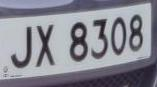0: (109, 11, 128, 61)
3: (89, 14, 112, 61)
8: (68, 17, 90, 67), (127, 9, 145, 58)
J: (7, 22, 34, 70)
X: (33, 20, 59, 73)
